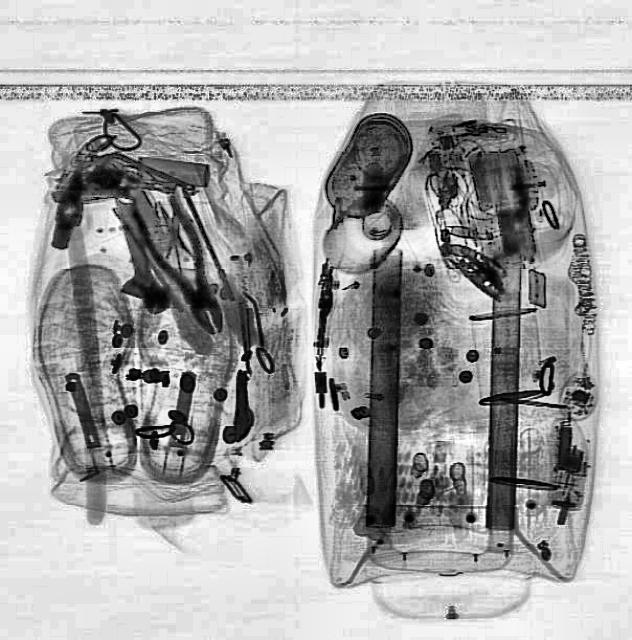Pliers: (129, 188, 241, 342)
Wrench: (94, 182, 174, 318)
